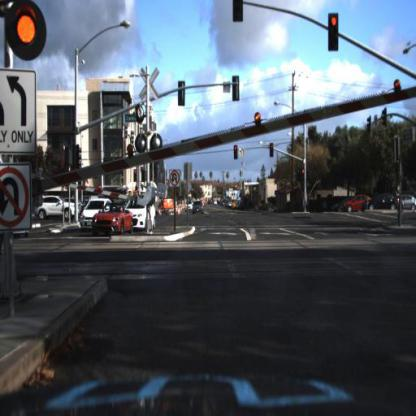car: (29, 192, 80, 224), (89, 203, 133, 235), (124, 196, 157, 232), (81, 198, 114, 231), (363, 192, 406, 215), (77, 198, 104, 232), (344, 194, 374, 212), (332, 196, 354, 214), (190, 196, 207, 217), (193, 199, 204, 215)
trafficLight: (12, 2, 44, 55), (233, 2, 245, 25)
trafficLight-Red: (328, 14, 340, 52), (269, 140, 277, 161), (301, 165, 307, 186), (233, 143, 239, 161), (271, 142, 275, 158)
